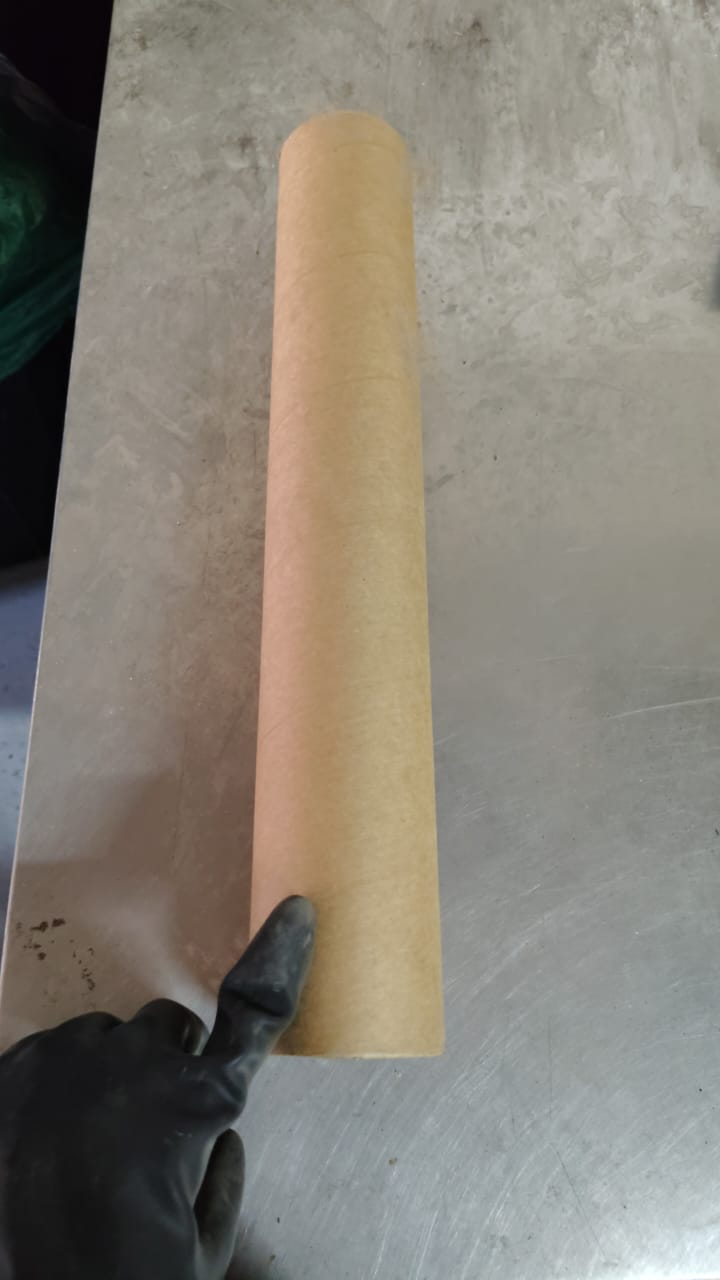Carton: (255, 109, 445, 1055)
